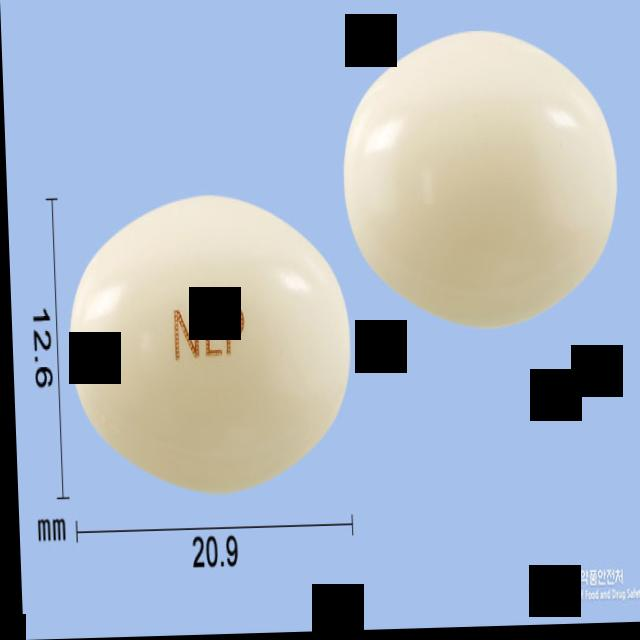Nepoxin Vaginal Soft Cap: (62, 189, 354, 498), (338, 29, 623, 337)
